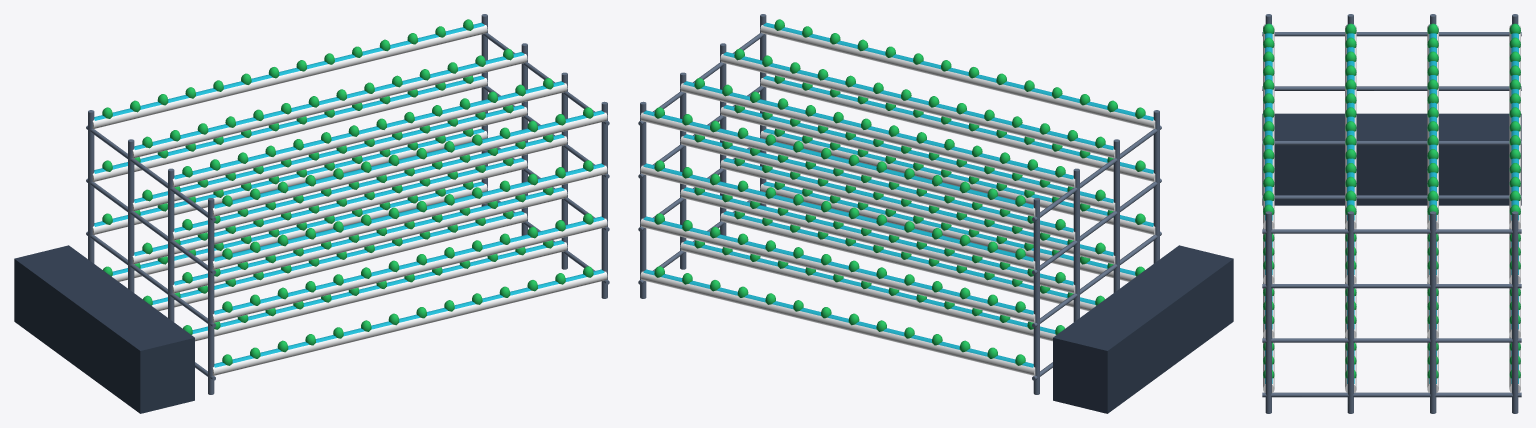
Rendered from hidroponia-36.glb.
3 views of the same model, side by side, from view 1: azimuth 30°, elevation 25°; view 2: azimuth 150°, elevation 25°; view 3: azimuth 270°, elevation 25° (orthographic). The views are drawn at different scales.
Bounding box in the file's own units: 4.3 × 1.7 × 2.
